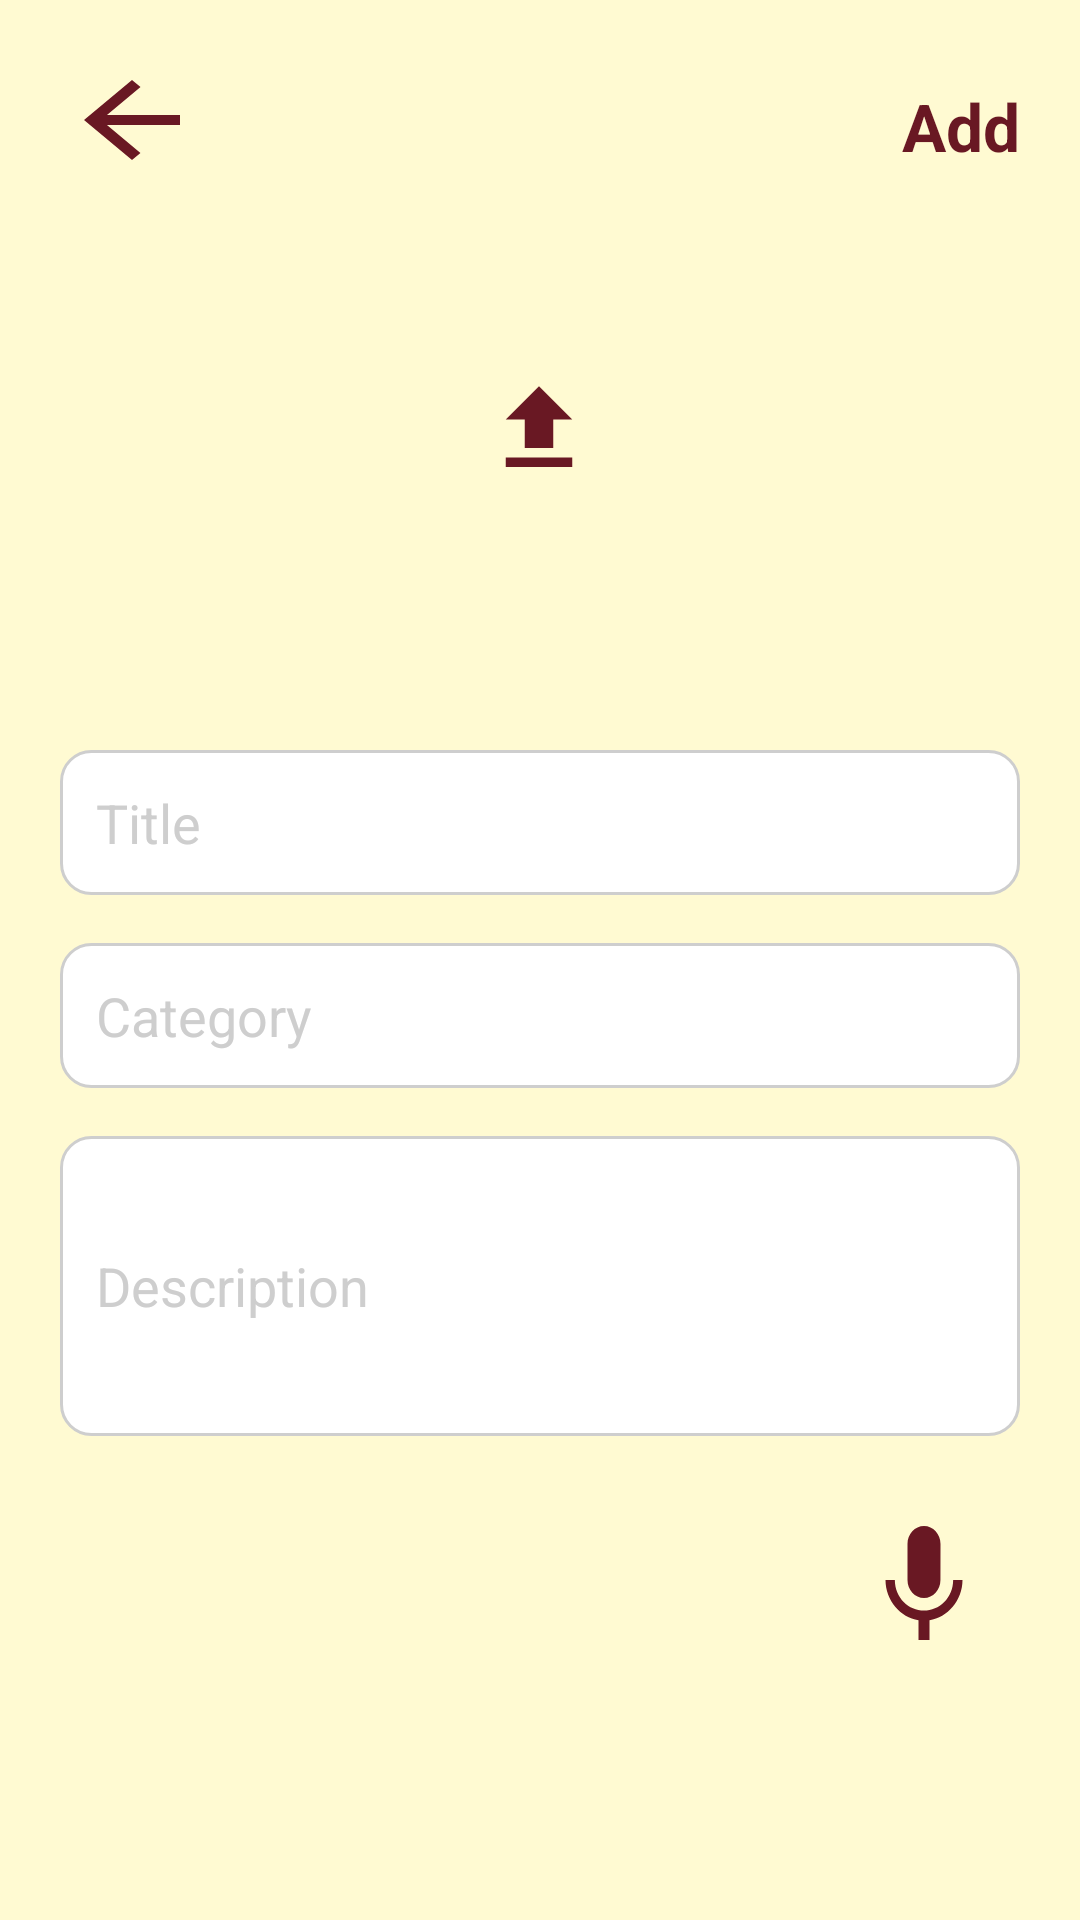

Where icons sit on this 1080w x 1920h app screen, as region(x1, y1, x2, y2):
back arrow: region(84, 80, 180, 160)
mic: region(885, 1526, 963, 1640)
upload: region(505, 386, 573, 467)
